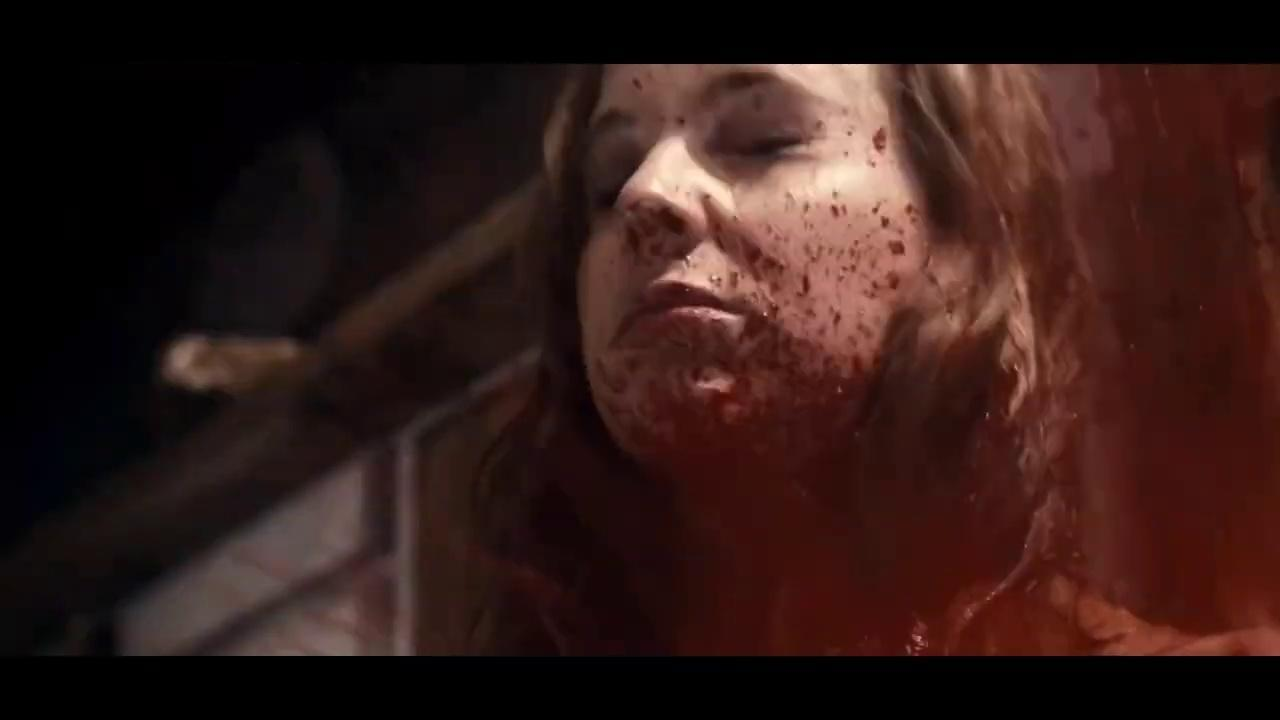Fire: (579, 64, 1280, 659)
